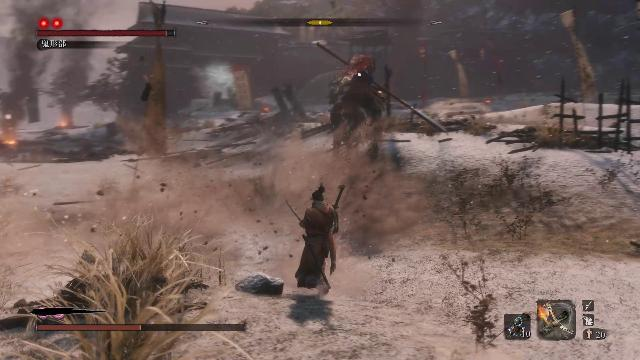sk: (280, 185, 342, 299)
